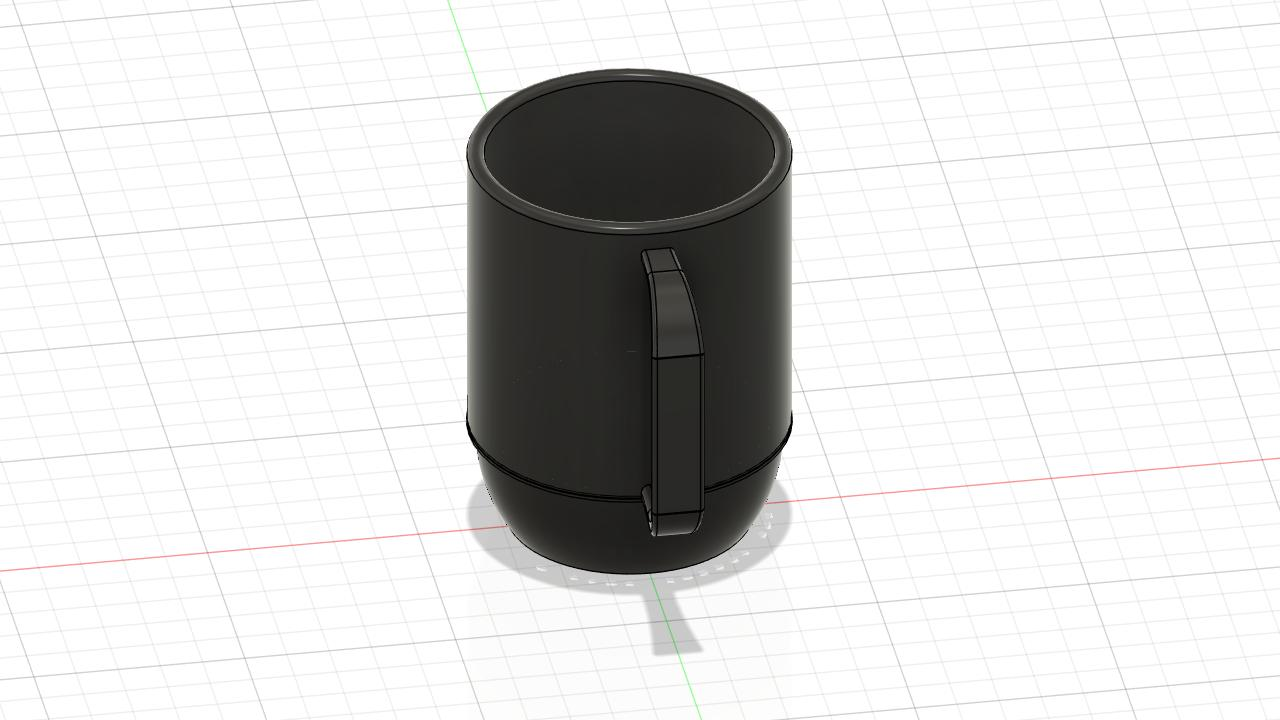mug-real100-3d100: (466, 70, 792, 573)
